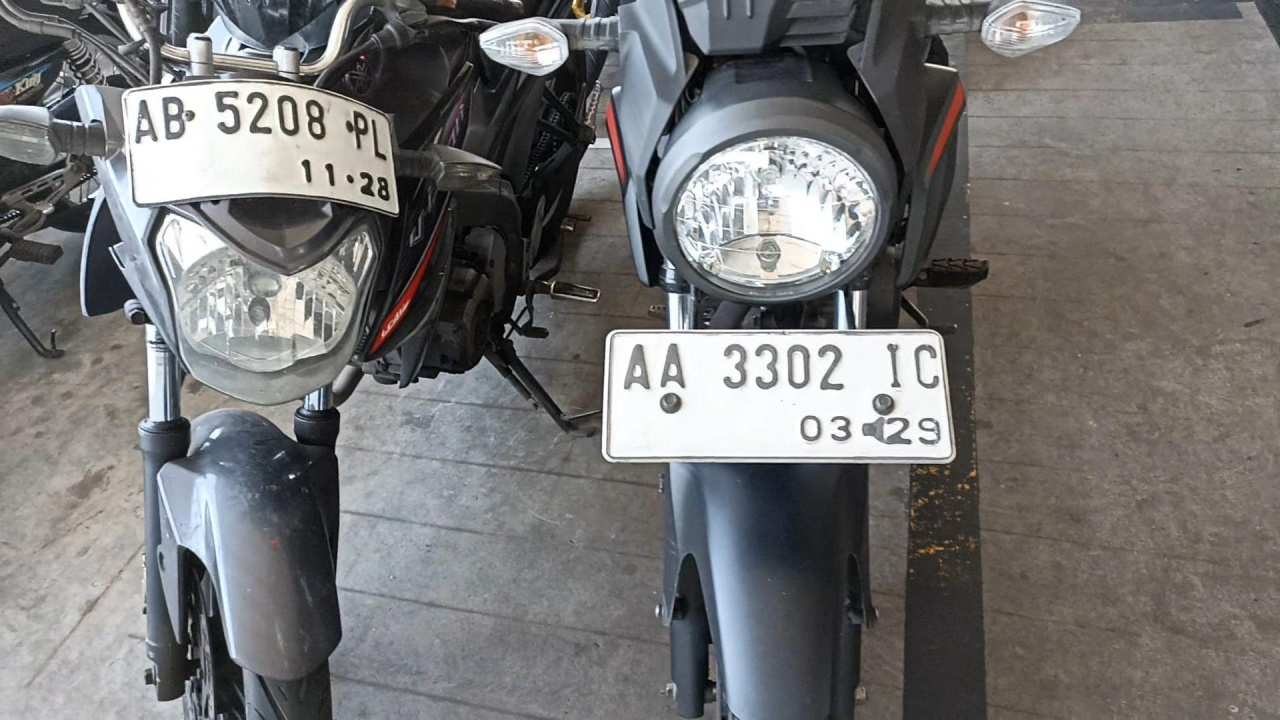plate: (606, 329, 953, 460), (125, 82, 400, 217)
